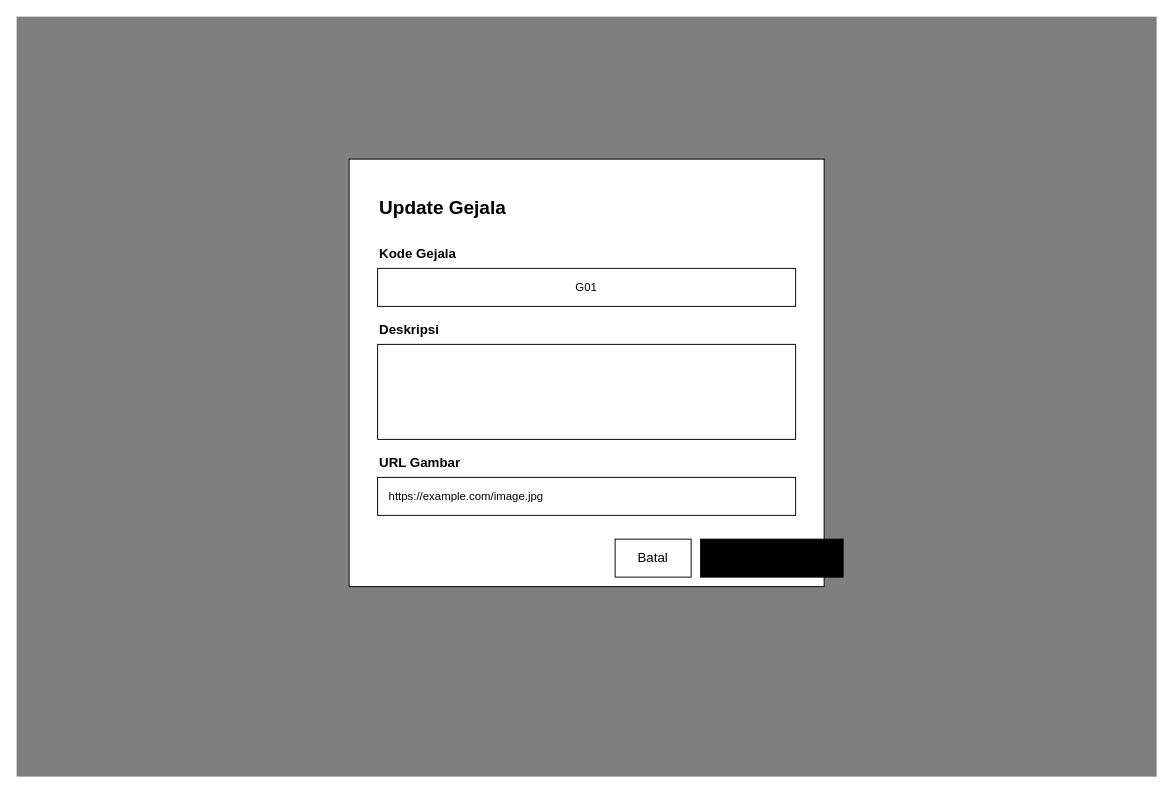
Image size: 1172x792. Some labels were removed from this diagram. The shapes that lost their labels are listed below. From the top down, each one's centre as x and y in pixels, then its label:
At (586,391): "Terdapat bintik-bintik putih pada permukaan bawah daun".
At (771,557): "Simpan Perubahan".
